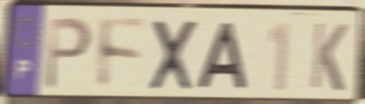1: (267, 20, 291, 93)
A: (195, 20, 251, 93)
F: (97, 15, 149, 94)
K: (308, 20, 350, 95)
P: (43, 15, 95, 93)
X: (147, 17, 200, 94)
